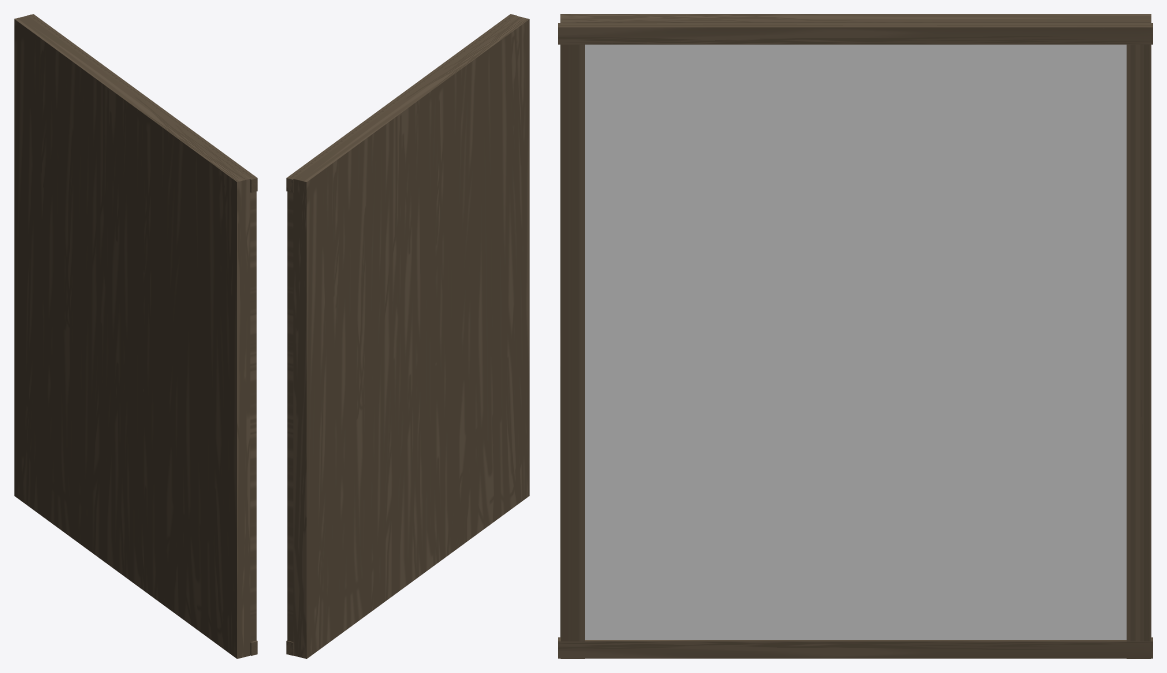
The model's file is emptypaintings.fbx.
3 renders of one model, left to right at view 1: azimuth 30°, elevation 25°; view 2: azimuth 150°, elevation 25°; view 3: azimuth 270°, elevation 25°, orthographic. The views are drawn at different scales.
Parts seen in each view (by area): view 1: Cube; view 2: Cube; view 3: Cube.003, Cube.
Part boxes in pixels (left/top/right/bottom): Cube: left=14, top=14, right=257, bottom=658; Cube: left=286, top=14, right=529, bottom=658; Cube.003: left=585, top=44, right=1126, bottom=639; Cube: left=558, top=14, right=1152, bottom=658.
Size of the model in its own units: 17.41 by 399 by 340.
1 material, 1 textured.
